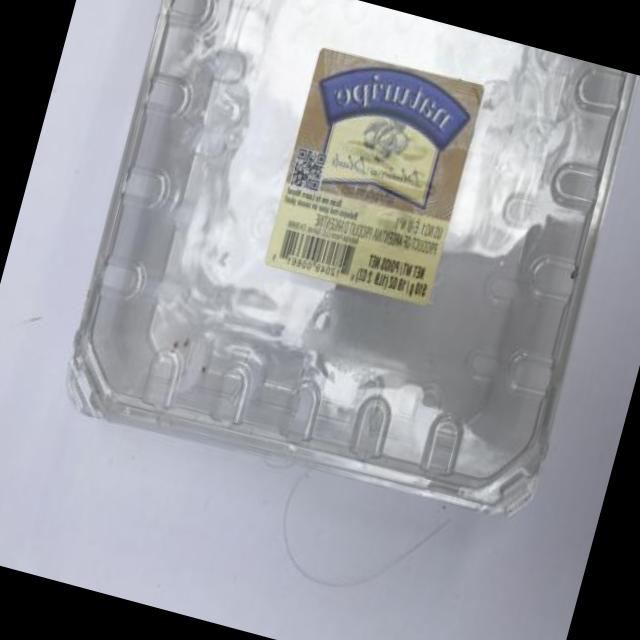Clamshell: (43, 0, 640, 543)
Label: (254, 30, 496, 316)
